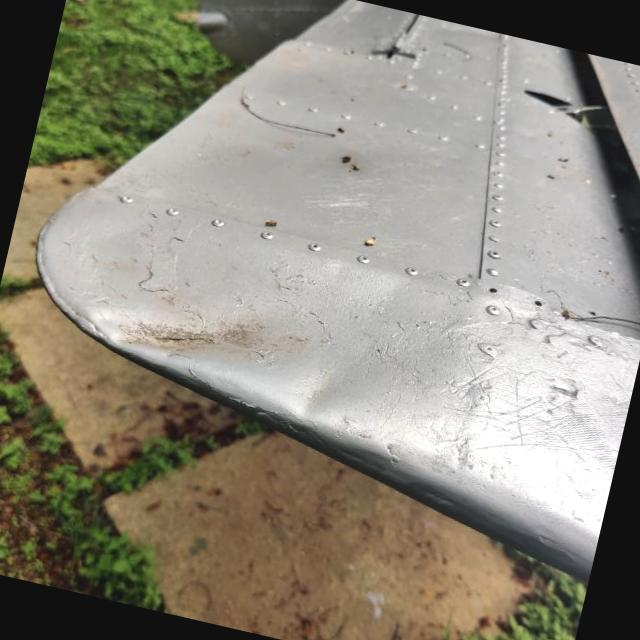dent: (106, 264, 294, 386), (264, 347, 388, 468)
